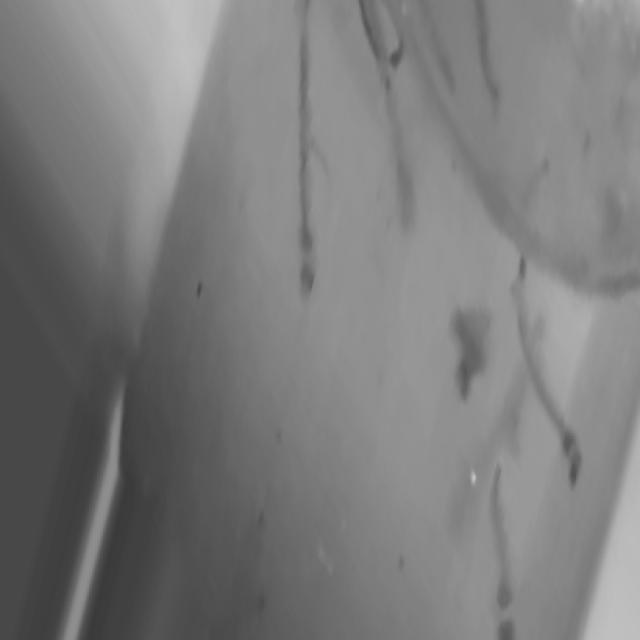larvas: (505, 267, 599, 487), (291, 0, 320, 291), (479, 479, 518, 637), (381, 83, 421, 229), (511, 161, 554, 271), (450, 302, 491, 394), (468, 0, 504, 103), (419, 0, 459, 91), (359, 0, 395, 86), (390, 3, 406, 67)
